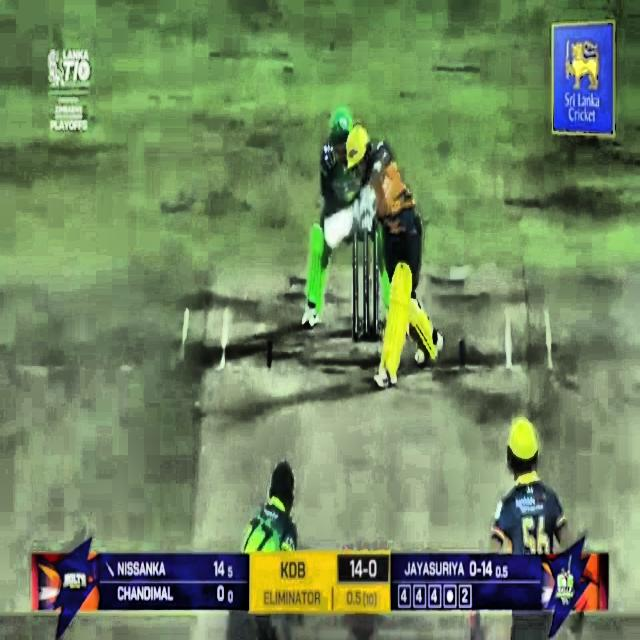Left-stump: (353, 235, 358, 343)
Middle-stump: (363, 235, 368, 342)
Right-stump: (374, 233, 379, 335)
